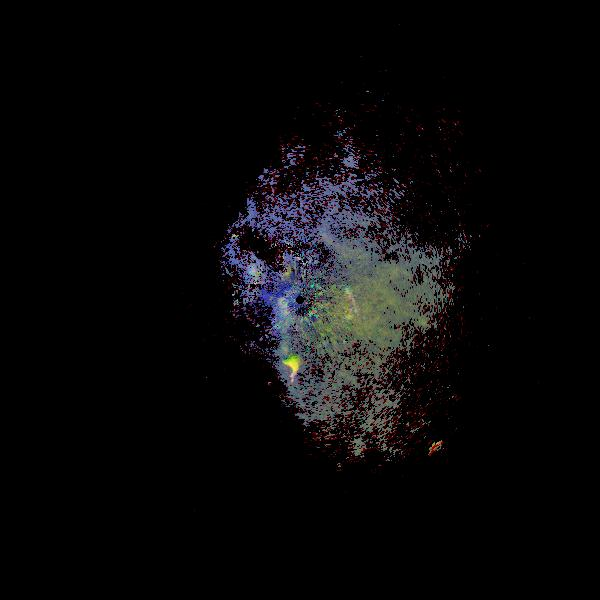roost: (423, 434, 471, 482), (332, 286, 374, 328), (278, 355, 314, 391)
